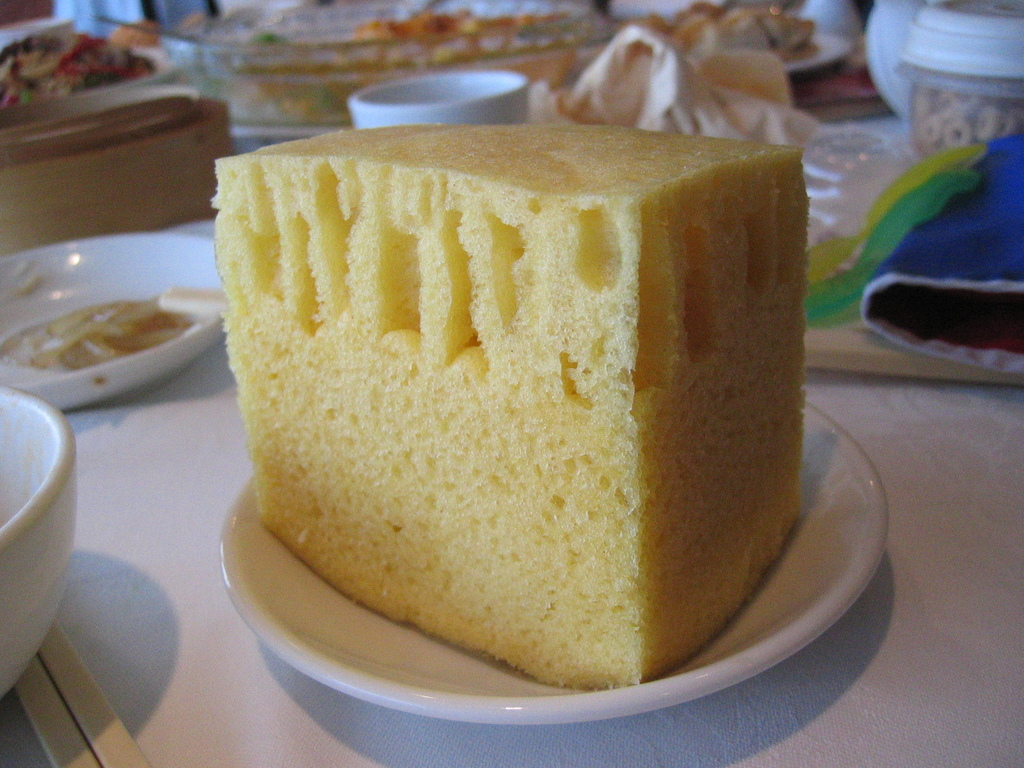person: (47, 0, 217, 42)
